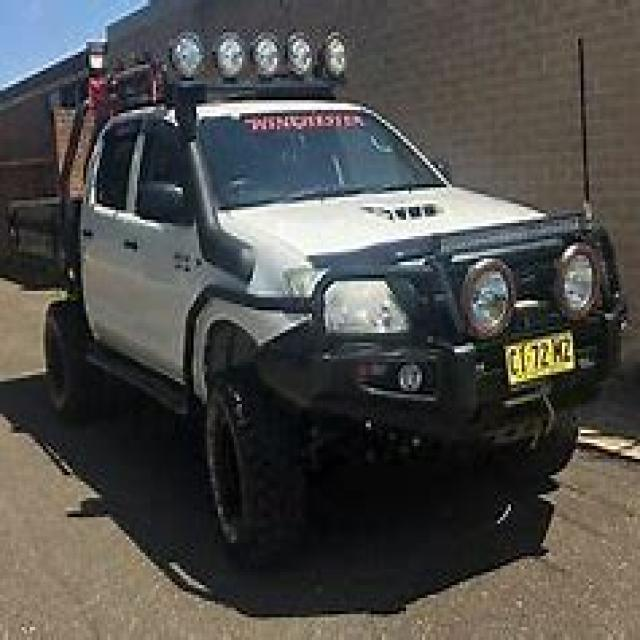light_vehicle: (22, 74, 638, 546)
